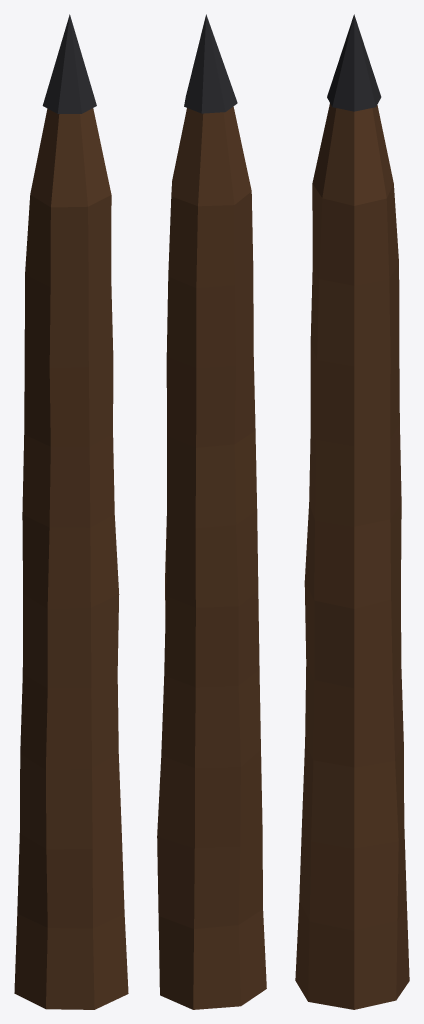
File: coc.glb
3 renders of one model, left to right at view 1: azimuth 90°, elevation 25°; view 2: azimuth 150°, elevation 25°; view 3: azimuth 270°, elevation 25°, orthographic.
Visible parts, largest first — view 1: coc, bit_sat; view 2: coc, bit_sat; view 3: coc, bit_sat.
Boxes of the visible parts, left/top/right/bottom form: coc: left=14, top=108, right=128, bottom=1009; bit_sat: left=42, top=14, right=96, bottom=113; coc: left=157, top=106, right=266, bottom=1009; bit_sat: left=184, top=14, right=237, bottom=113; coc: left=295, top=103, right=409, bottom=1009; bit_sat: left=327, top=14, right=381, bottom=111.
Bounding box in the file's own units: 0.506 × 5 × 0.5316.
